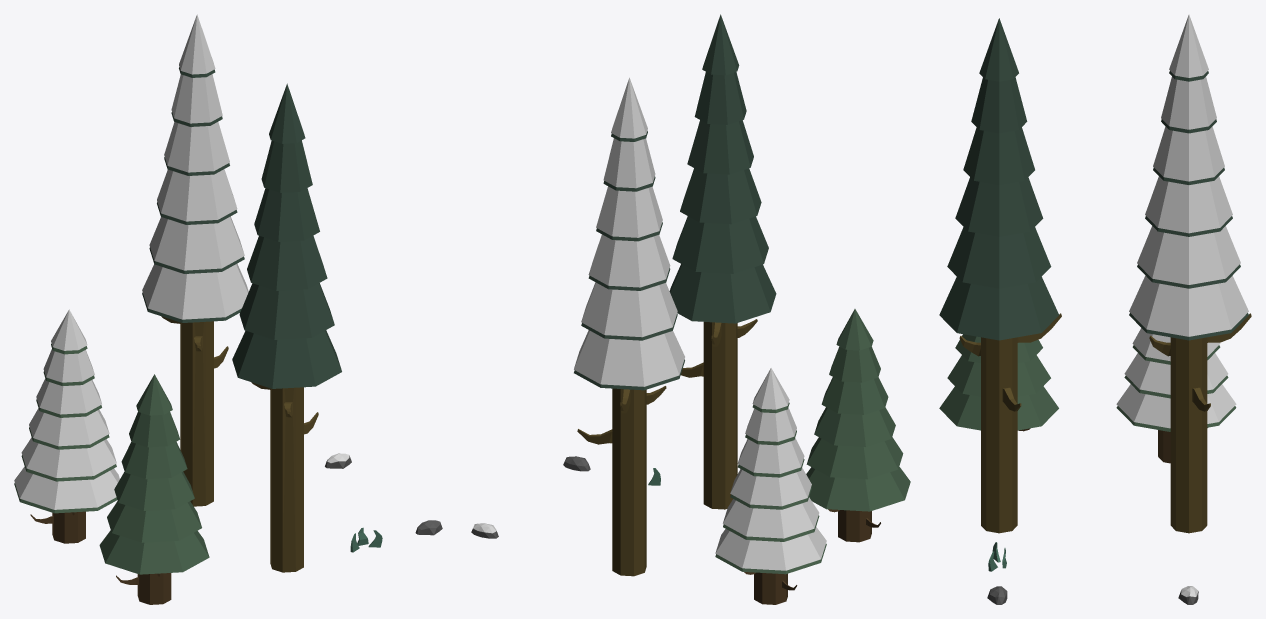
File: Low Poly Nature Aaset.fbx
3 views of the same model, side by side, from view 1: azimuth 30°, elevation 25°; view 2: azimuth 150°, elevation 25°; view 3: azimuth 270°, elevation 25° (orthographic). The views are drawn at different scales.
Parts seen in each view (by area): view 1: Pine_2_1, Pine_2, Pine_1_1_, Pine_1; view 2: Pine_2_1, Pine_2, Pine_1_1_, Pine_1; view 3: Pine_2_1, Pine_2, Pine_1_1_, Pine_1.
Boxes of the visible parts, x1=… form: Pine_2_1: x1=142, y1=14, x2=248, y2=506; Pine_2: x1=232, y1=83, x2=341, y2=572; Pine_1_1_: x1=14, y1=309, x2=119, y2=543; Pine_1: x1=99, y1=374, x2=209, y2=604; Pine_2_1: x1=574, y1=77, x2=684, y2=576; Pine_2: x1=669, y1=14, x2=776, y2=509; Pine_1_1_: x1=715, y1=368, x2=826, y2=604; Pine_1: x1=806, y1=309, x2=910, y2=542; Pine_2_1: x1=1129, y1=14, x2=1251, y2=533; Pine_2: x1=939, y1=18, x2=1061, y2=533; Pine_1_1_: x1=1116, y1=328, x2=1236, y2=463; Pine_1: x1=939, y1=334, x2=1058, y2=431.
Size of the model in its own units: 10.26 by 14.1 by 7.81.
